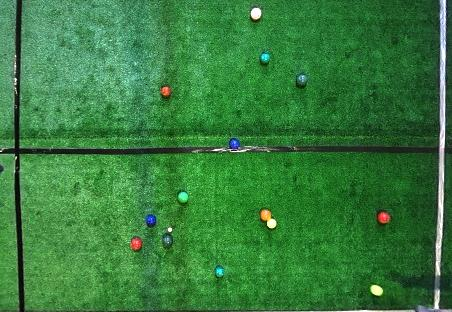blue: (229, 138, 240, 149), (146, 215, 156, 226)
green: (177, 191, 189, 204), (297, 74, 308, 85), (260, 53, 271, 64), (163, 234, 173, 245), (215, 266, 225, 277)
red: (130, 237, 143, 251), (377, 211, 390, 224), (250, 8, 262, 21), (260, 209, 272, 221), (160, 86, 171, 97)
vline: (1, 1, 27, 311), (431, 1, 451, 310)
white: (168, 227, 172, 232)
yellow: (370, 285, 383, 296), (267, 218, 277, 229)
